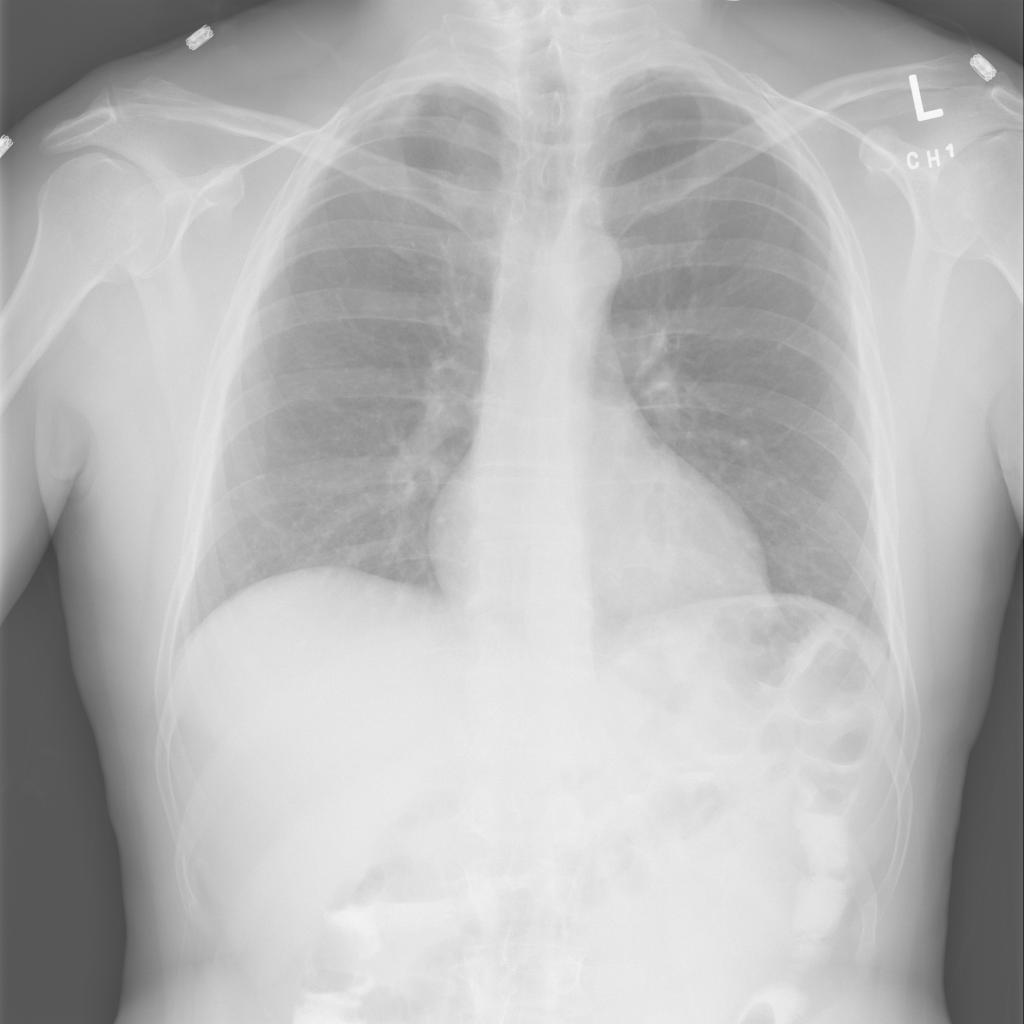Nodule: (149, 177, 168, 193), (203, 161, 216, 175), (97, 88, 111, 100)
